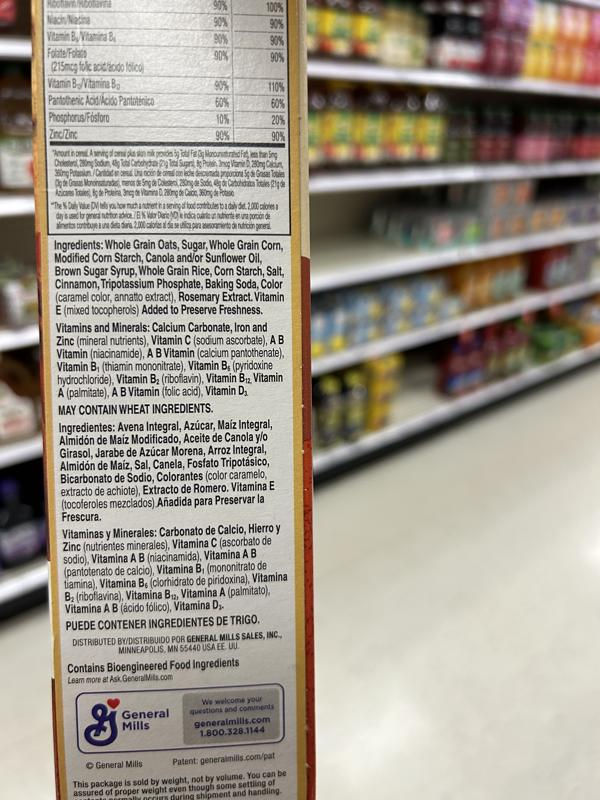ingredients: (52, 237, 287, 320)
